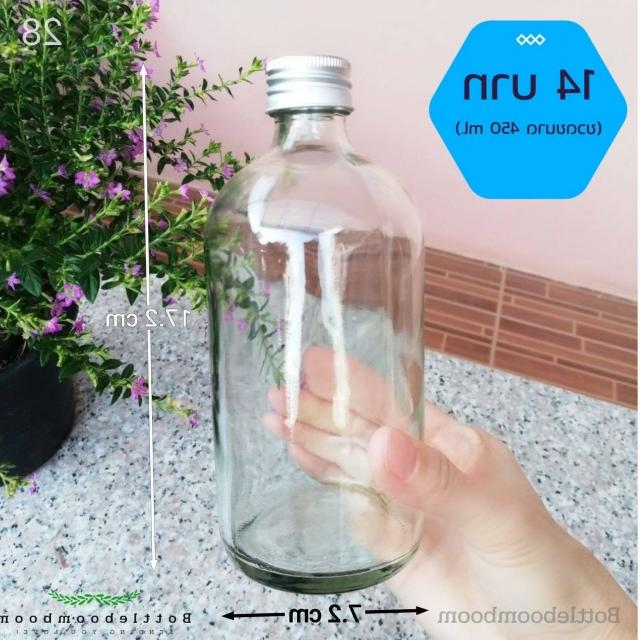glass: (200, 58, 428, 598)
